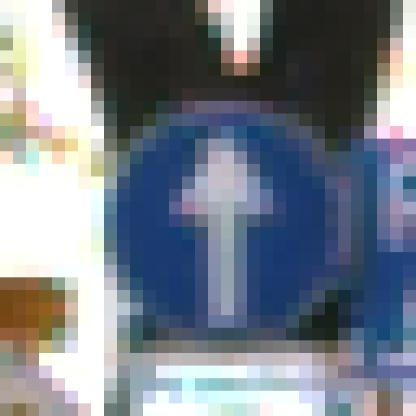AheadOnly: (79, 64, 352, 341)
